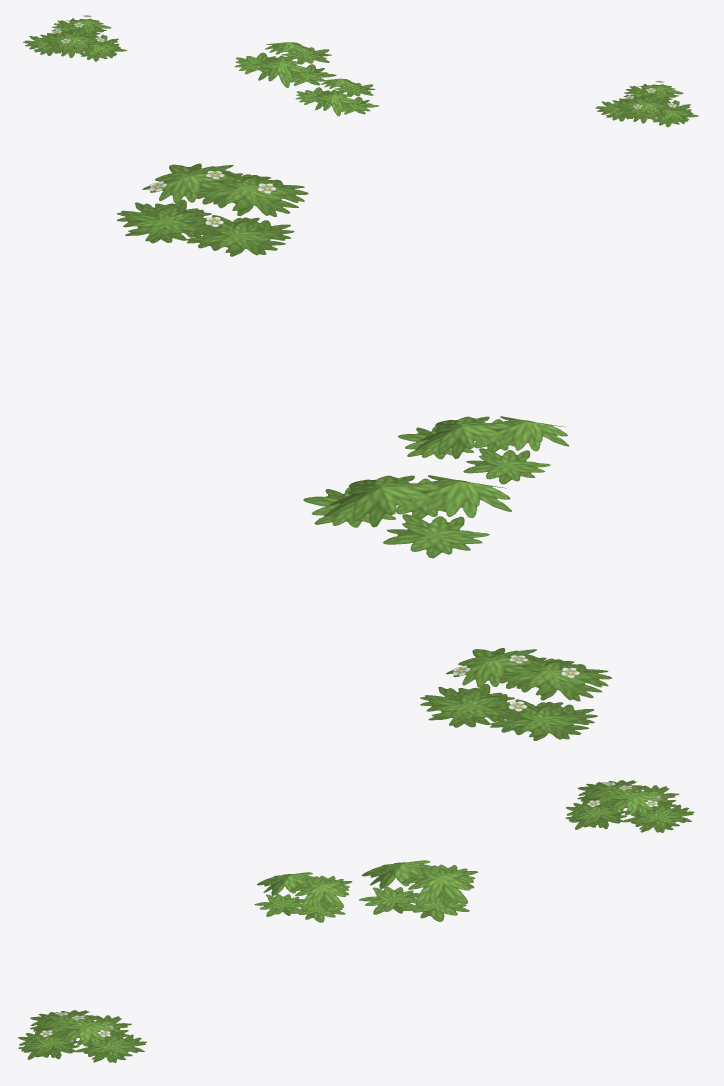
Rendered from Area_07_20.fbx.
The picture shows the model from 3 angles, top to bottom: view 1: azimuth 30°, elevation 25°; view 2: azimuth 150°, elevation 25°; view 3: azimuth 270°, elevation 25°; orthographic projection. The views are drawn at different scales.
Parts seen in each view (by area): view 1: Area_07_20; view 2: Area_07_20; view 3: Area_07_20.
Part boxes in pixels (<box>): Area_07_20: <box>23,15,698,127</box>; Area_07_20: <box>116,163,611,740</box>; Area_07_20: <box>18,780,694,1062</box>.
Bounding box in the file's own units: 1354 × 62.22 × 1385.
